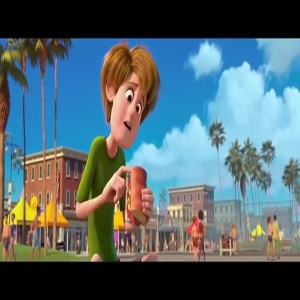Shagy: (102, 43, 159, 148)
